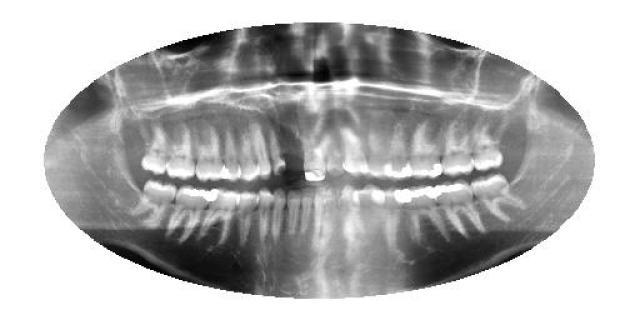Fillings: (435, 180, 486, 241), (166, 186, 210, 245), (402, 186, 448, 242), (198, 188, 242, 246), (408, 115, 444, 179), (387, 118, 412, 180), (220, 122, 242, 182)
